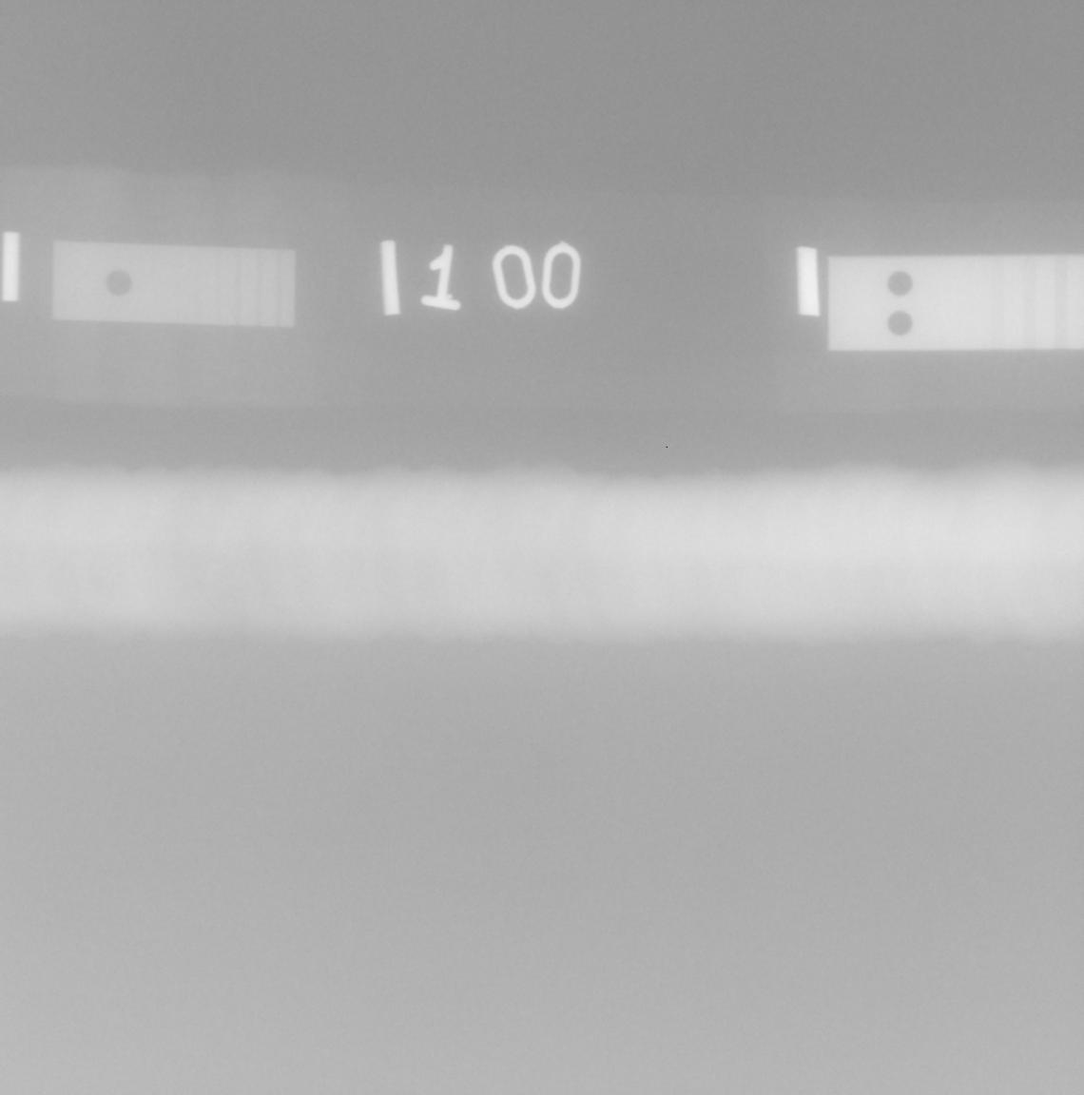Reference Standard 1: (52, 241, 294, 327)
